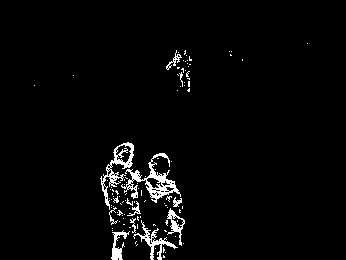person: (143, 146, 191, 260), (99, 139, 139, 260)
